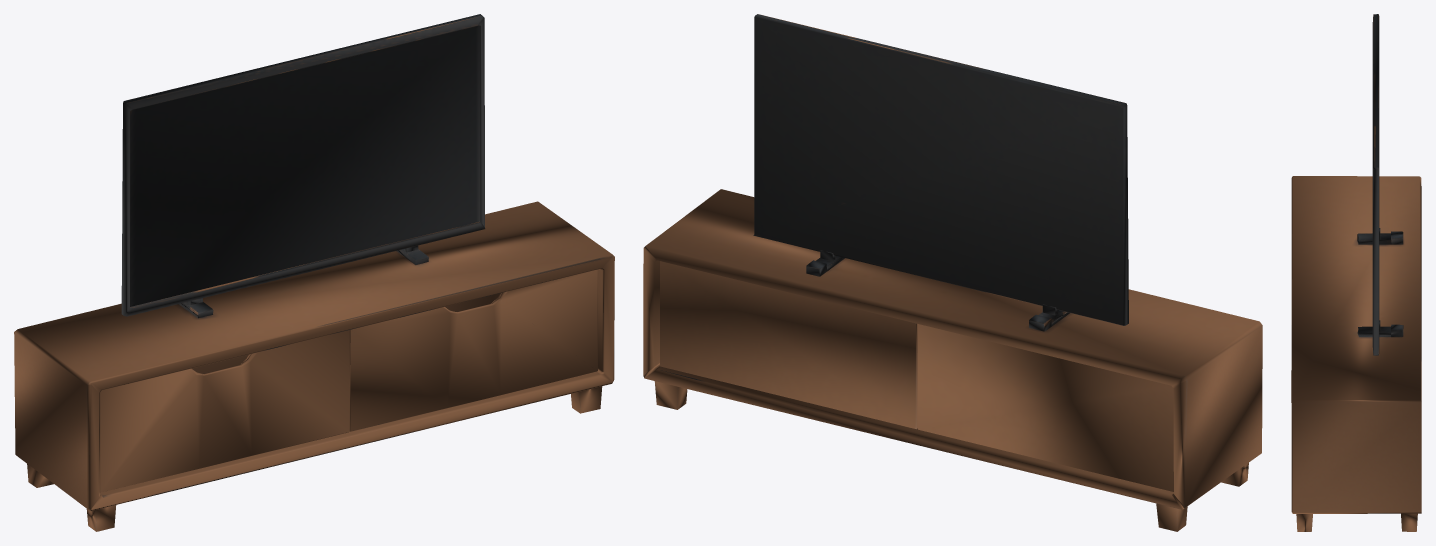
File: tv_console.fbx
3 views of the same model, side by side, from view 1: azimuth 30°, elevation 25°; view 2: azimuth 150°, elevation 25°; view 3: azimuth 270°, elevation 25° (orthographic). The views are drawn at different scales.
Visible parts, largest first — view 1: Mesh_0; view 2: Mesh_0; view 3: Mesh_0.
Part boxes in pixels (x1=…): Mesh_0: x1=14, y1=14, x2=614, y2=531; Mesh_0: x1=643, y1=14, x2=1262, y2=531; Mesh_0: x1=1291, y1=14, x2=1421, y2=531.
Size of the model in its own units: 95.7 by 65.67 by 23.29.
Materials: 1 (1 with a texture image).
